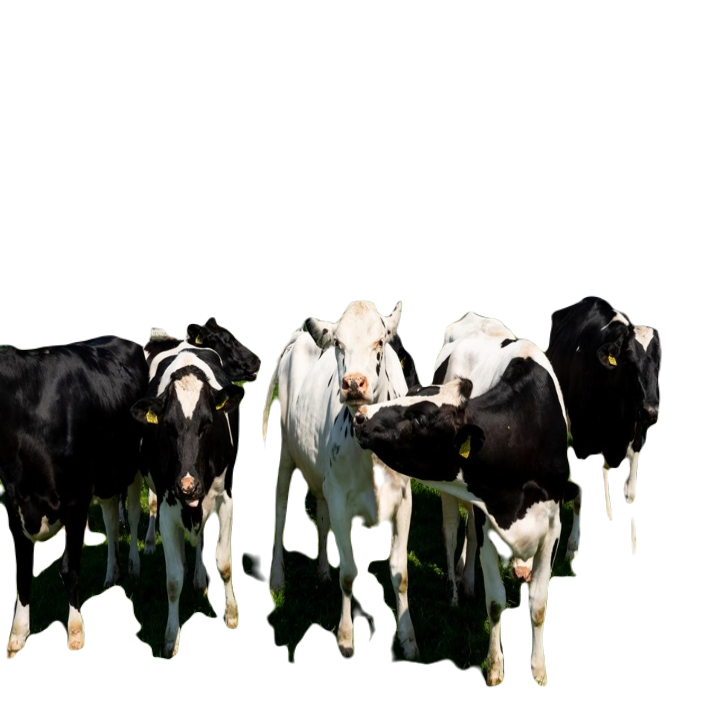Cow: (356, 310, 568, 689), (138, 336, 248, 660)
